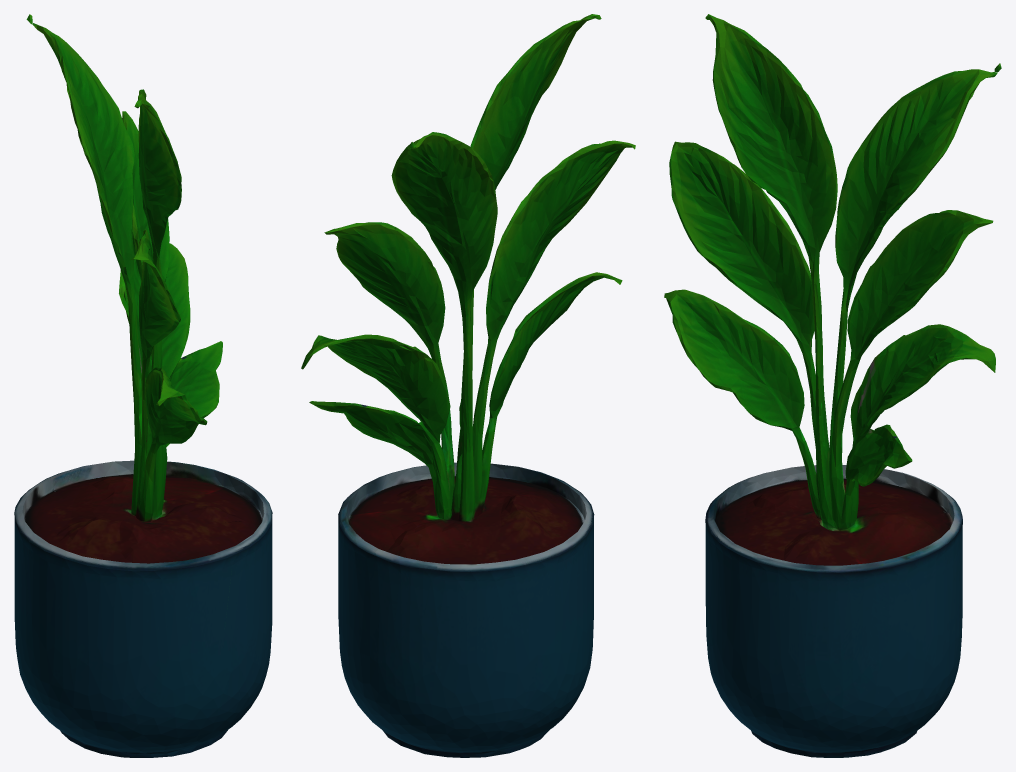
File: pottedplant_texture.obj
3 views of the same model, side by side, from view 1: azimuth 30°, elevation 25°; view 2: azimuth 150°, elevation 25°; view 3: azimuth 270°, elevation 25° (orthographic).
Parts seen in each view (by area): view 1: pottedplant_texture; view 2: pottedplant_texture; view 3: pottedplant_texture.
Part boxes in pixels (left/top/right/bottom): pottedplant_texture: left=14, top=14, right=272, bottom=757; pottedplant_texture: left=301, top=14, right=635, bottom=757; pottedplant_texture: left=664, top=14, right=1001, bottom=757.
Size of the model in its own units: 0.352 by 1 by 0.4526.
Materials: 1 (1 with a texture image).
